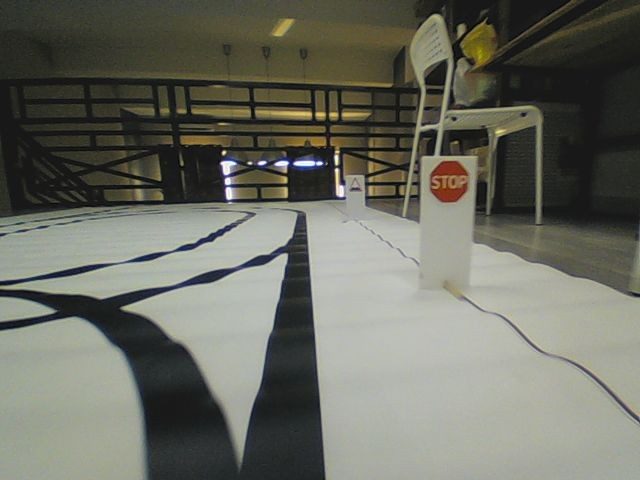Nerov: (348, 177, 362, 193)
Stop: (429, 160, 469, 204)
